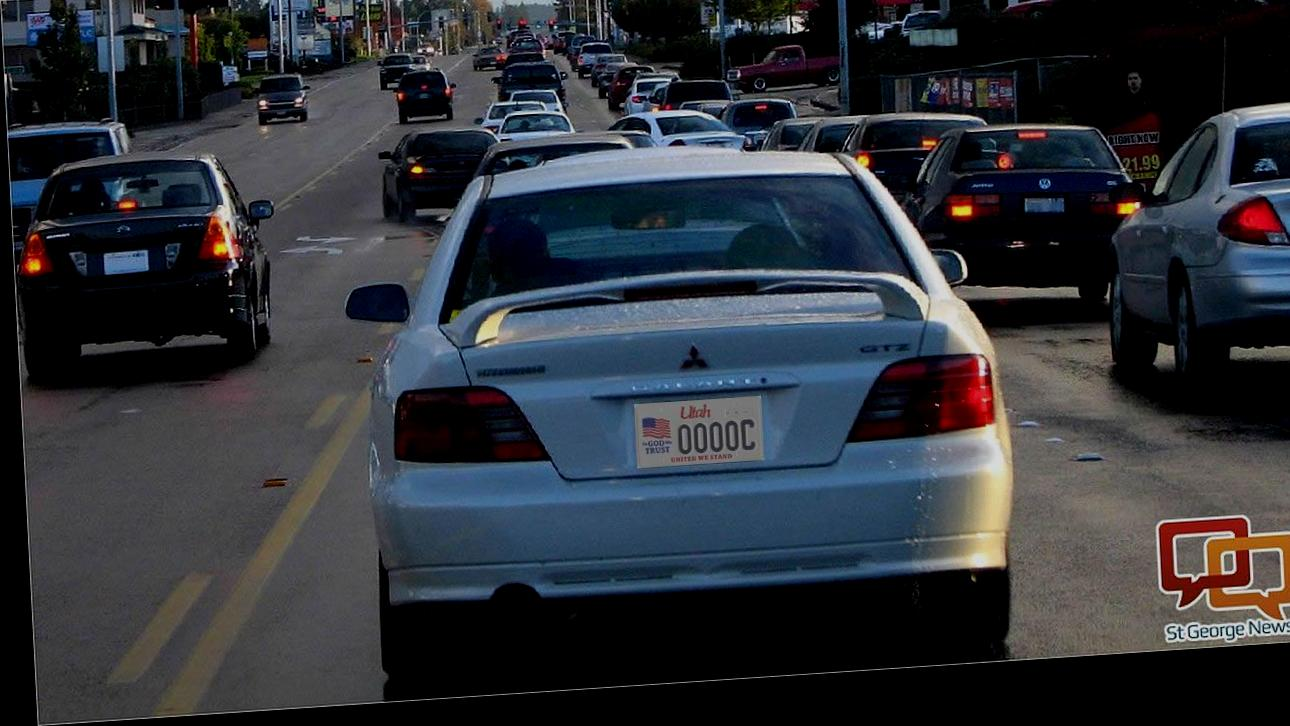License_Plate: (625, 386, 776, 476), (98, 243, 160, 284), (1023, 187, 1071, 223)
